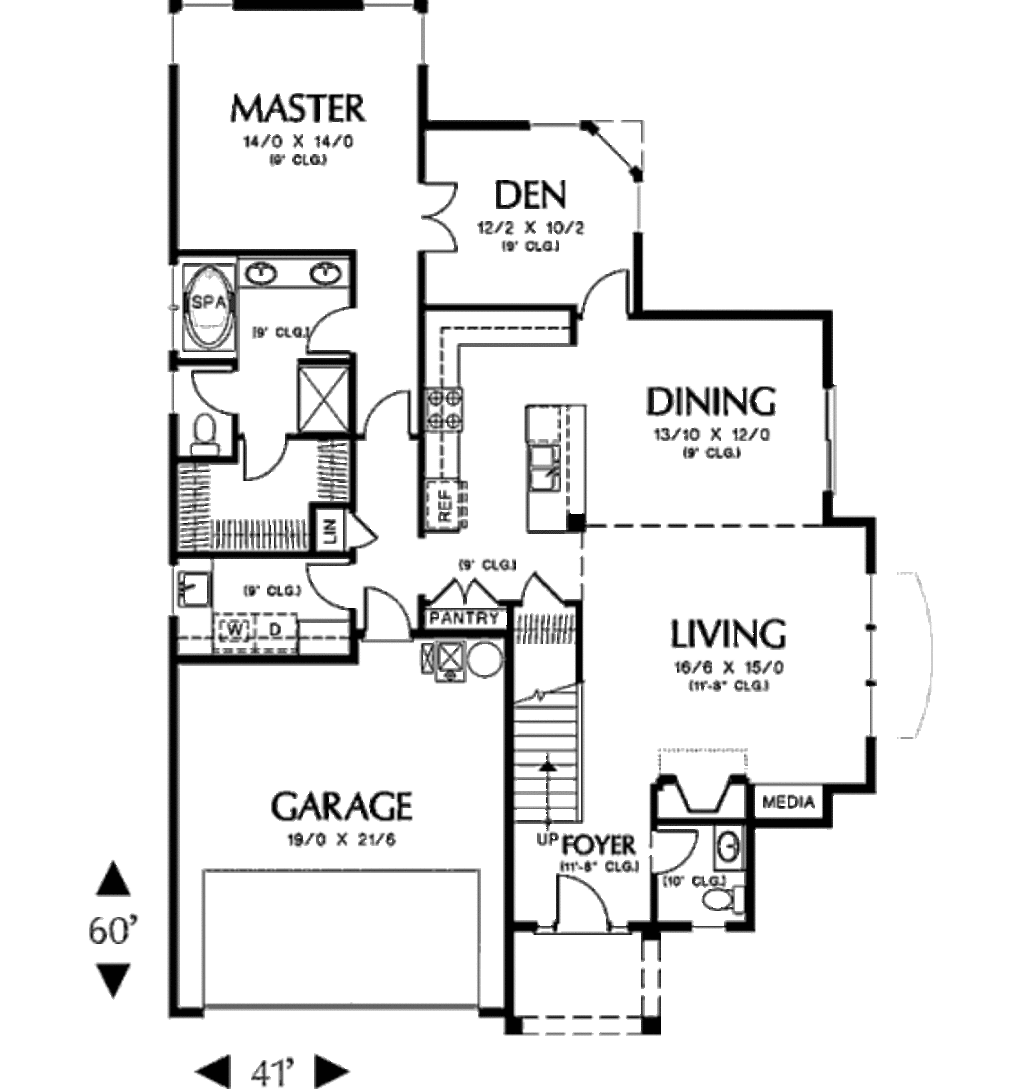door: (572, 255, 644, 327), (352, 378, 417, 449), (418, 564, 502, 613), (298, 549, 362, 612), (414, 173, 466, 250), (296, 300, 362, 360), (551, 870, 611, 936), (647, 809, 699, 882), (188, 354, 242, 415), (239, 428, 289, 487), (369, 577, 409, 646), (515, 567, 565, 610)
kitchen_bar: (508, 397, 596, 549)
large_sink: (695, 878, 751, 918), (190, 401, 223, 466)
sink: (170, 558, 218, 615)
small_sink: (235, 253, 364, 291), (707, 824, 747, 875)
stairs: (514, 617, 596, 834), (515, 607, 584, 834)
twin_sink: (526, 435, 566, 501)
